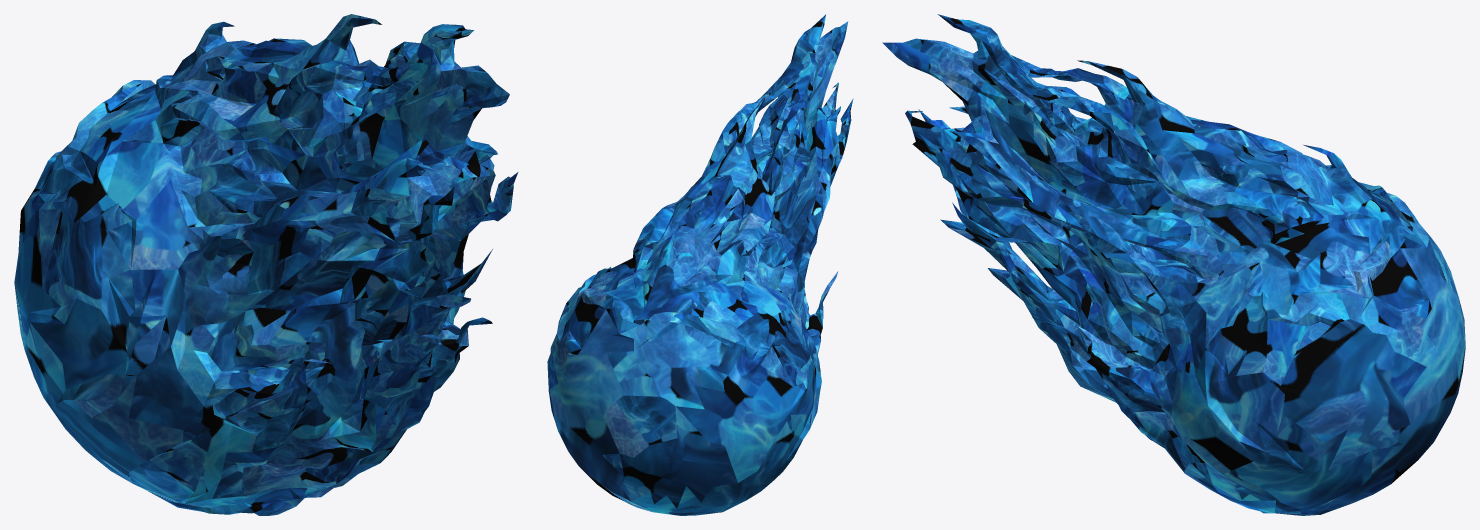
The model's file is GraceComet.glb.
3 renders of one model, left to right at view 1: azimuth 30°, elevation 25°; view 2: azimuth 150°, elevation 25°; view 3: azimuth 270°, elevation 25°, orthographic. The views are drawn at different scales.
Parts seen in each view (by area): view 1: CometSpin; view 2: CometSpin; view 3: CometSpin.
Boxes of the visible parts, bbox=[...] form: CometSpin: bbox=[14, 14, 518, 515]; CometSpin: bbox=[547, 14, 853, 515]; CometSpin: bbox=[882, 14, 1465, 515].
Bounding box in the file's own units: 6.74 × 10.52 × 11.51.
Materials: 1 (1 with a texture image).
